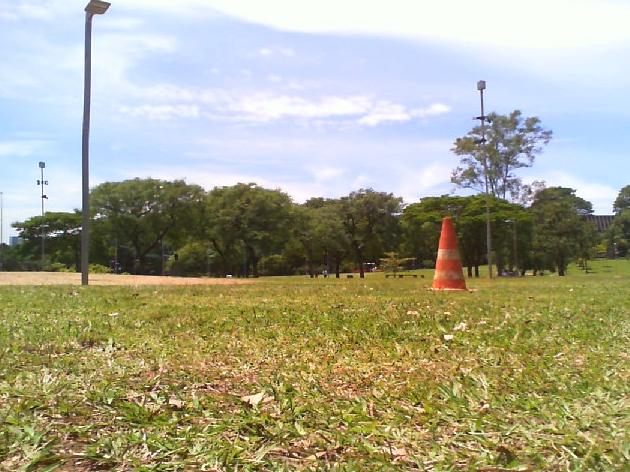0 cone: (427, 217, 471, 291)
